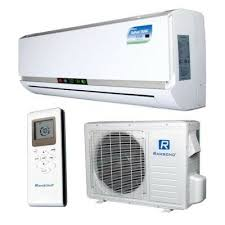ac: (17, 7, 207, 114)
